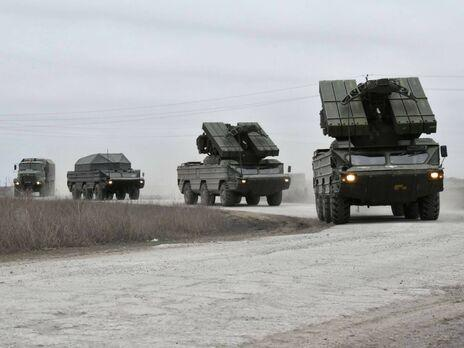rszo: (308, 74, 446, 228), (174, 122, 289, 208), (63, 152, 145, 200)
truck: (13, 153, 55, 202)
